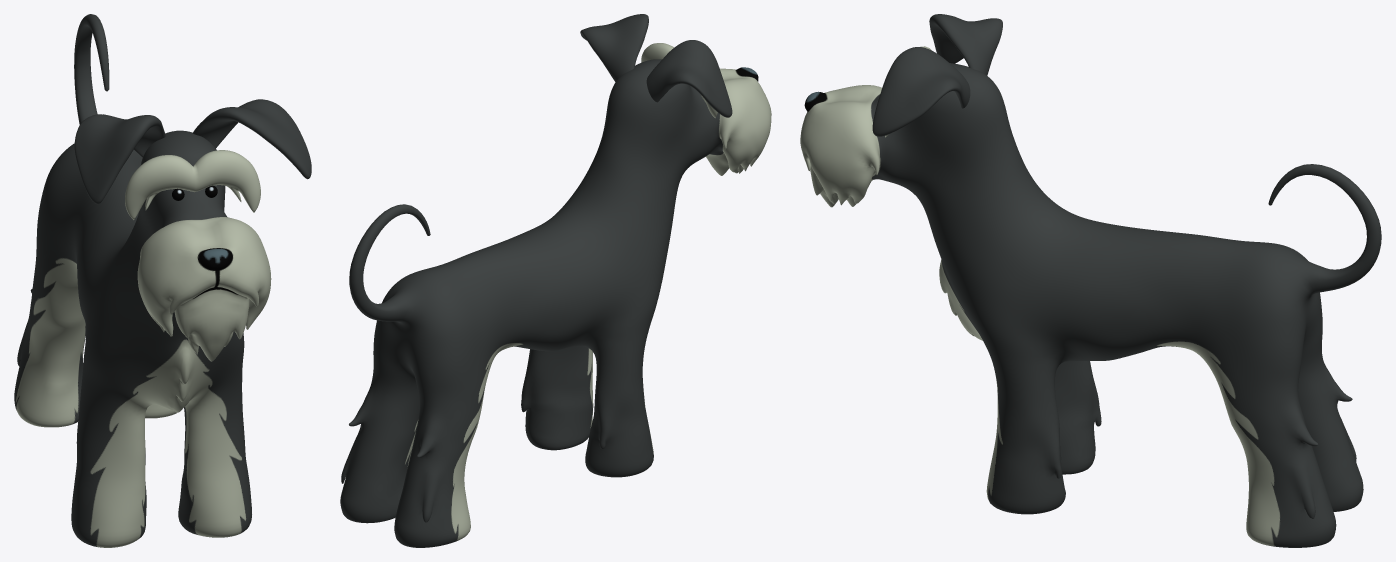
The model's file is cookie.glb.
3 renders of one model, left to right at view 1: azimuth 30°, elevation 25°; view 2: azimuth 150°, elevation 25°; view 3: azimuth 270°, elevation 25°, orthographic. The views are drawn at different scales.
Visible parts, largest first — view 1: node_id30; view 2: node_id30; view 3: node_id30.
Part boxes in pixels (x1=…): node_id30: x1=14, y1=14, x2=311, y2=547; node_id30: x1=340, y1=14, x2=771, y2=547; node_id30: x1=800, y1=14, x2=1381, y2=547.
Size of the model in its own units: 0.3096 by 0.512 by 0.6198.
1 material, 1 textured.
